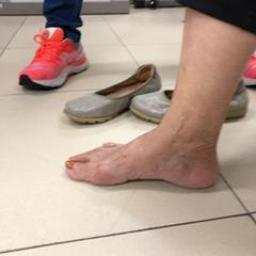Medial View -Right Foot-: (62, 106, 228, 193)
